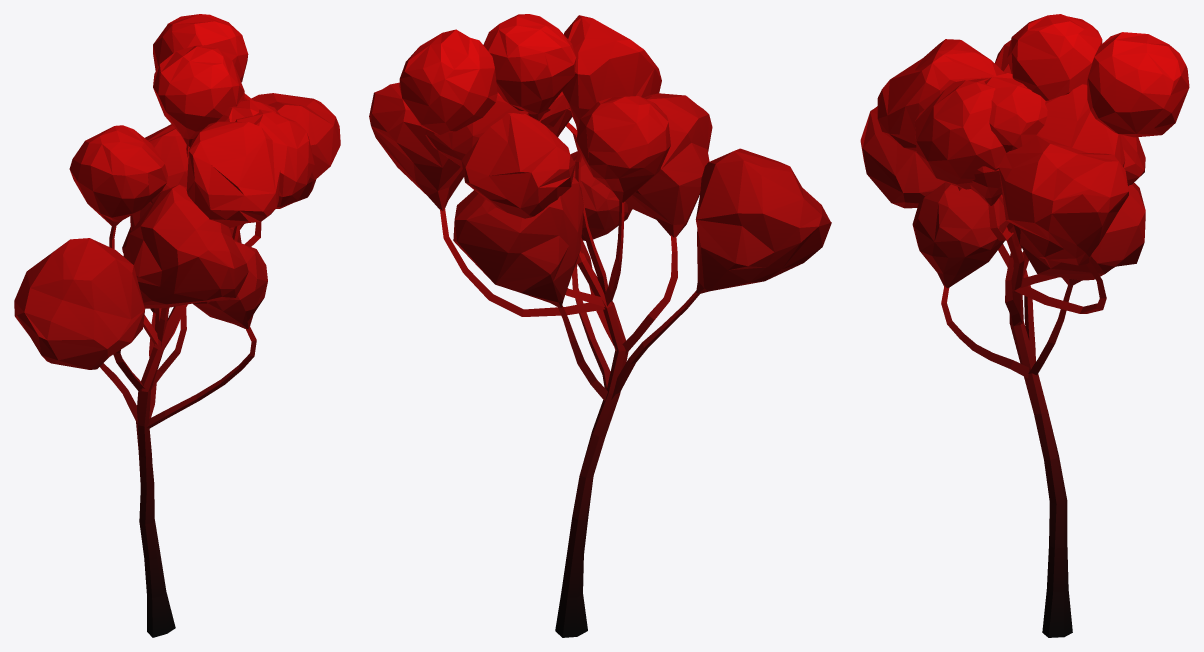
File: TreeEuca04.fbx
3 renders of one model, left to right at view 1: azimuth 30°, elevation 25°; view 2: azimuth 150°, elevation 25°; view 3: azimuth 270°, elevation 25°, orthographic. The views are drawn at different scales.
Visible parts, largest first — view 1: TreeEuca04_LOD0; view 2: TreeEuca04_LOD0; view 3: TreeEuca04_LOD0.
Boxes of the visible parts, x1,y1,x2,y2 form: TreeEuca04_LOD0: (14, 14, 340, 637); TreeEuca04_LOD0: (369, 14, 831, 637); TreeEuca04_LOD0: (860, 14, 1189, 637).
Size of what is drawn, in the model's own units: 553 by 821 by 384.
